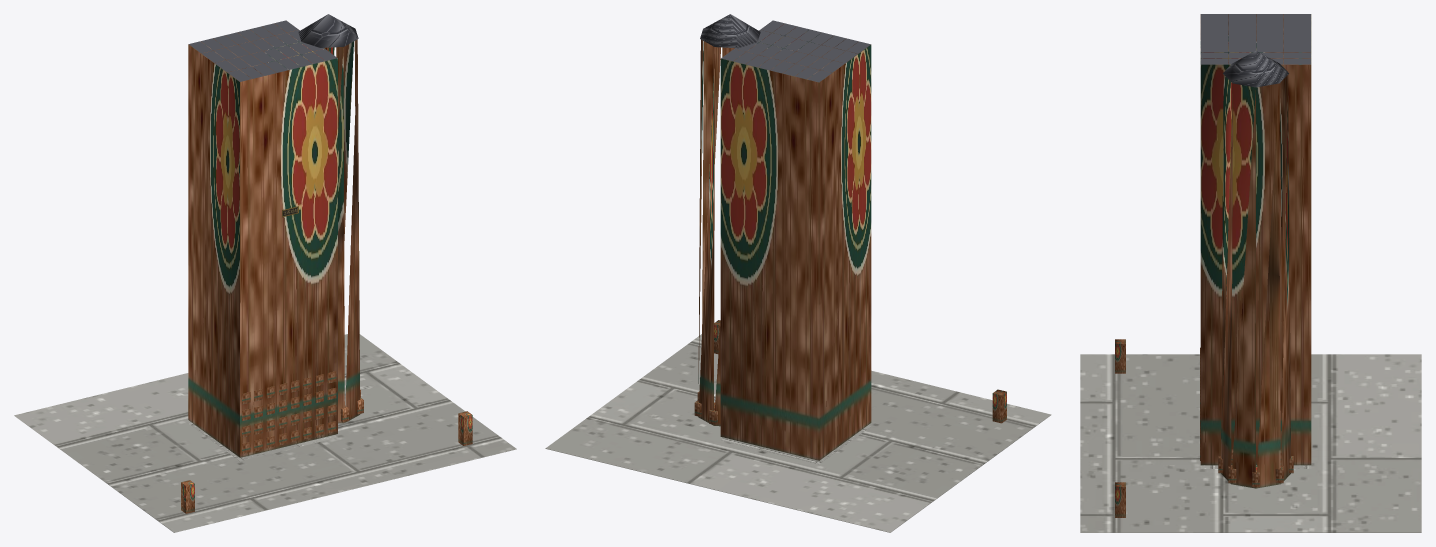
The picture shows the model from 3 angles, left to right: view 1: azimuth 30°, elevation 25°; view 2: azimuth 150°, elevation 25°; view 3: azimuth 270°, elevation 25°; orthographic projection. The views are drawn at different scales.
Parts seen in each view (by area): view 1: 11680_01_06254_010_02_L2__body, 11680_01_06254_010_01_L2__base, 11680_01_06254_010_03_L2__roof, 11680_01_06254_010_05_L2__openings, 11680_01_06254_010_06_L2__green; view 2: 11680_01_06254_010_02_L2__body, 11680_01_06254_010_01_L2__base, 11680_01_06254_010_03_L2__roof, 11680_01_06254_010_06_L2__green; view 3: 11680_01_06254_010_01_L2__base, 11680_01_06254_010_02_L2__body, 11680_01_06254_010_03_L2__roof, 11680_01_06254_010_06_L2__green.
Boxes of the visible parts, <box> form: 11680_01_06254_010_02_L2__body: <box>188,23,363,457</box>; 11680_01_06254_010_01_L2__base: <box>14,334,516,532</box>; 11680_01_06254_010_03_L2__roof: <box>189,14,358,81</box>; 11680_01_06254_010_05_L2__openings: <box>242,371,336,454</box>; 11680_01_06254_010_06_L2__green: <box>181,411,472,513</box>; 11680_01_06254_010_02_L2__body: <box>694,24,871,460</box>; 11680_01_06254_010_01_L2__base: <box>545,334,1051,532</box>; 11680_01_06254_010_03_L2__roof: <box>700,14,870,82</box>; 11680_01_06254_010_06_L2__green: <box>714,320,1006,423</box>; 11680_01_06254_010_01_L2__base: <box>1080,354,1421,532</box>; 11680_01_06254_010_02_L2__body: <box>1200,14,1311,488</box>; 11680_01_06254_010_03_L2__roof: <box>1201,14,1310,87</box>; 11680_01_06254_010_06_L2__green: <box>1115,339,1125,517</box>.
Size of the model in its own units: 84 by 93.9 by 68.
Materials: 5 (5 with a texture image).
